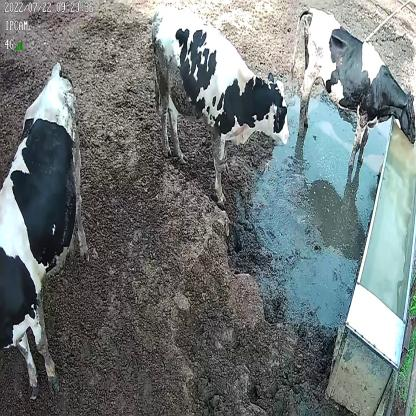cow: (0, 58, 89, 395), (151, 4, 291, 206), (290, 5, 416, 167)
